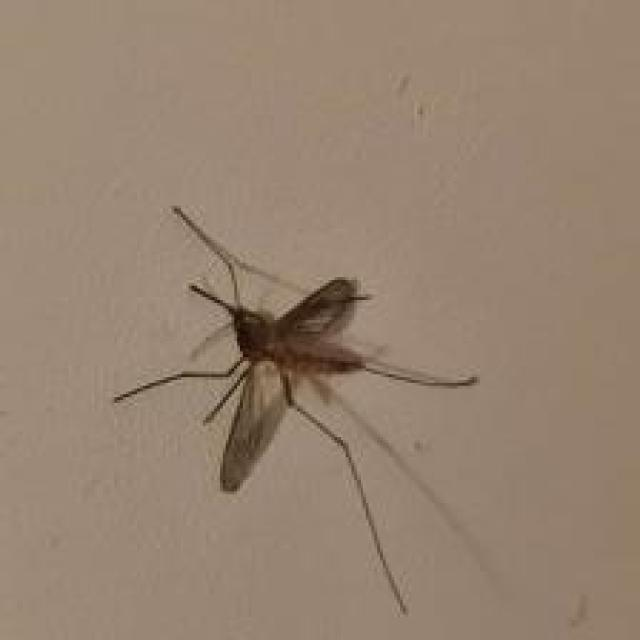Culex: (111, 204, 506, 616)
